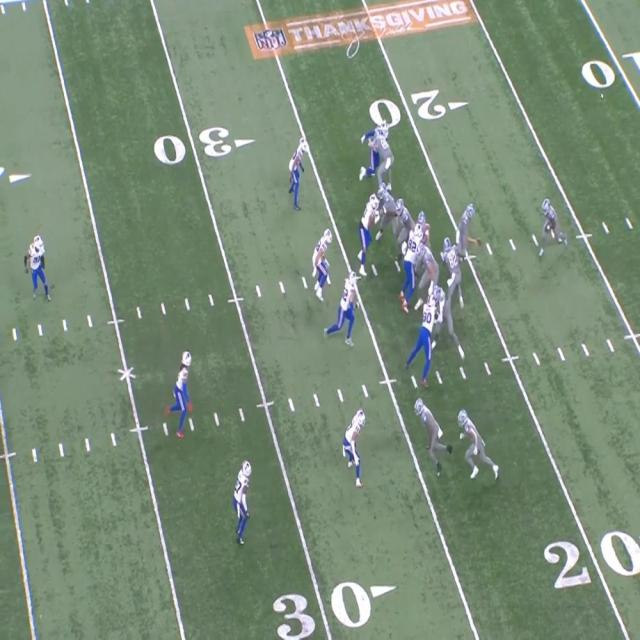db: (174, 349, 193, 436), (347, 406, 367, 484), (235, 460, 253, 544), (26, 233, 49, 295), (290, 136, 306, 205)
lb: (339, 271, 361, 345), (362, 196, 380, 278), (313, 227, 331, 300)
qb: (461, 203, 476, 249)
skill: (416, 399, 445, 474), (464, 409, 488, 481), (443, 236, 464, 312), (372, 128, 392, 186), (543, 196, 561, 242)
